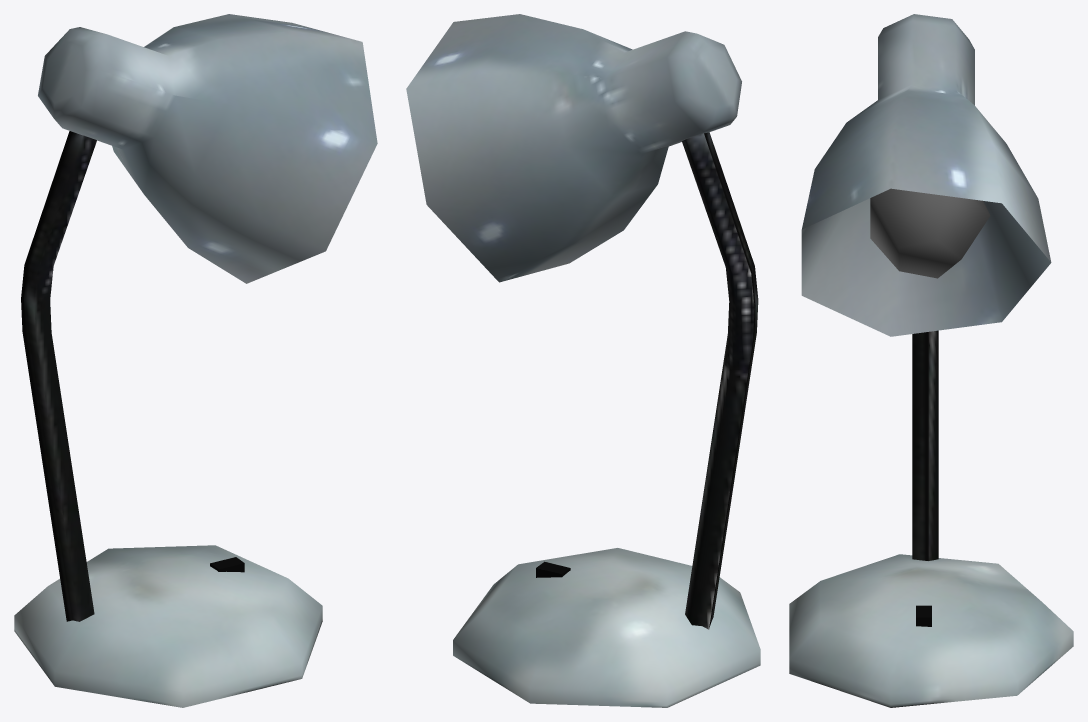
File: Lamp_02-col.glb
3 views of the same model, side by side, from view 1: azimuth 30°, elevation 25°; view 2: azimuth 150°, elevation 25°; view 3: azimuth 270°, elevation 25° (orthographic). The views are drawn at different scales.
Parts seen in each view (by area): view 1: Lamp_02-col; view 2: Lamp_02-col; view 3: Lamp_02-col.
Part boxes in pixels (x1=…): Lamp_02-col: x1=14, y1=14, x2=377, y2=707; Lamp_02-col: x1=406, y1=14, x2=760, y2=707; Lamp_02-col: x1=789, y1=14, x2=1073, y2=707.
Size of the model in its own units: 0.3229 by 0.6037 by 0.262.
Materials: 1 (1 with a texture image).
